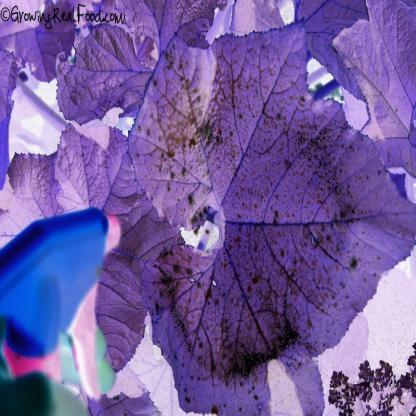Squash Powdery mildew leaf: (95, 22, 416, 390)
